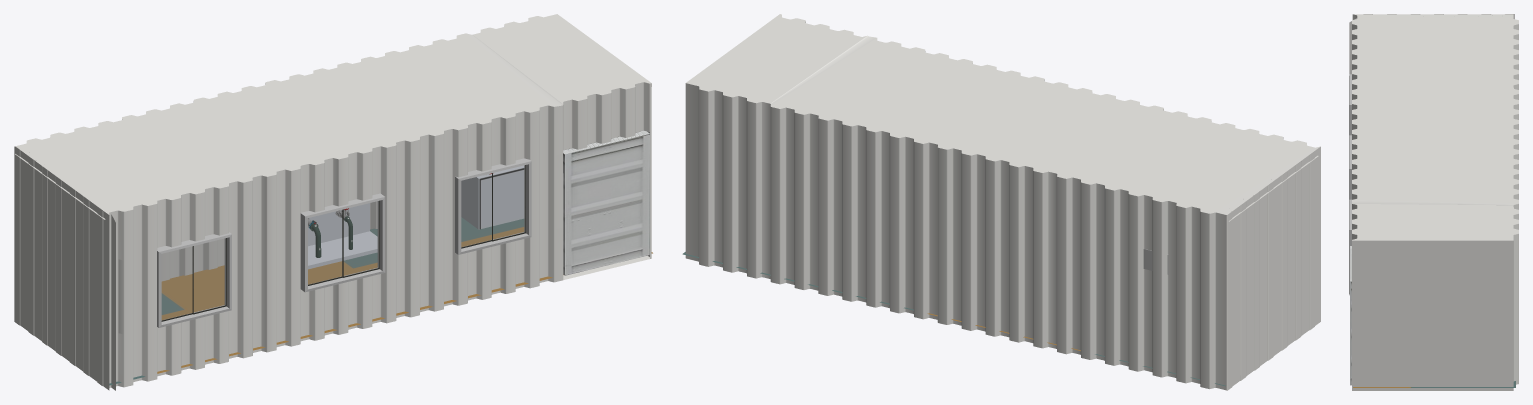
File: SalaEntrenamiento.FBX
3 renders of one model, left to right at view 1: azimuth 30°, elevation 25°; view 2: azimuth 150°, elevation 25°; view 3: azimuth 270°, elevation 25°, orthographic. The views are drawn at different scales.
Visible parts, largest first — view 1: Container, ventanas, puerta, Object024, Object023; view 2: Container; view 3: Container, puerta.
Part boxes in pixels (x1=…): Container: x1=14, y1=14, x2=652, y2=390; ventanas: x1=161, y1=165, x2=525, y2=321; puerta: x1=563, y1=130, x2=649, y2=275; Object024: x1=461, y1=165, x2=524, y2=229; Object023: x1=308, y1=203, x2=377, y2=269; Container: x1=682, y1=14, x2=1320, y2=390; Container: x1=1349, y1=14, x2=1518, y2=390; puerta: x1=1350, y1=246, x2=1351, y2=385.
Size of the model in its own units: 791 by 243 by 249.
